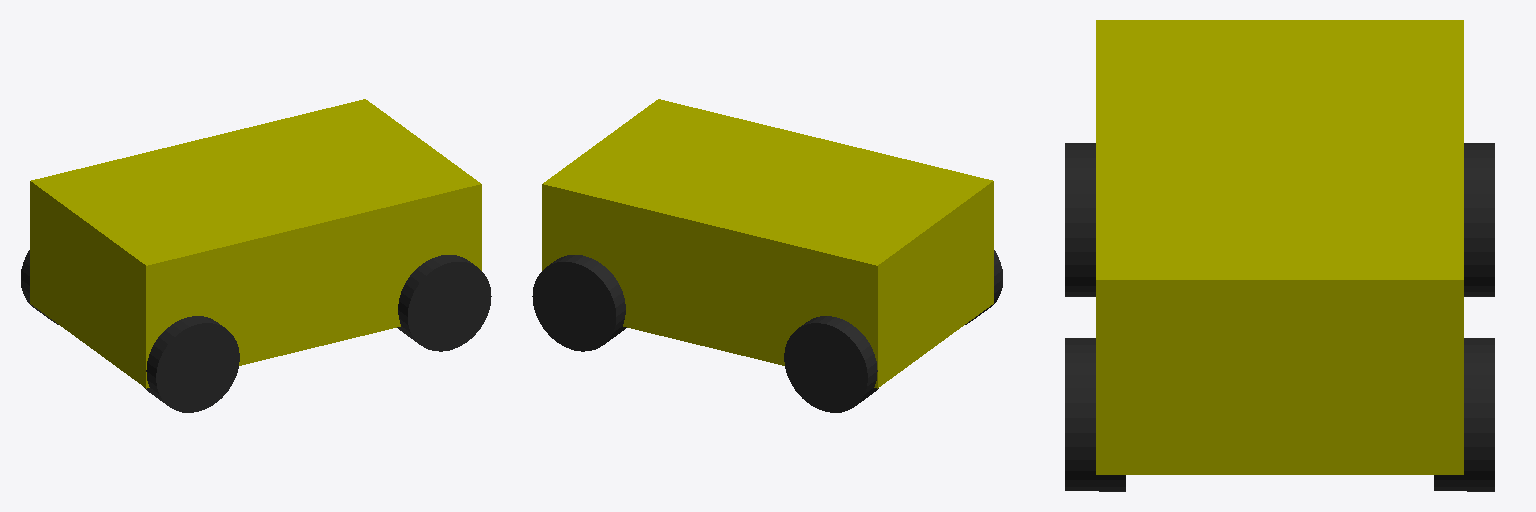
URDF robot description (exercise_demo):
<!-- 
    练习：编写四轮差速机器人的底盘模型

    参数：
        长 0.2m
        宽 0.12m
        高 0.07m
        离地 0.015m
        车轮半径：0.025m
        车轮厚度：0.02m

 -->
 <robot name="exercise_demo">
    <!-- 定义颜色 -->
    <material name="yellow">
      <color rgba="0.7 0.7 0 0.8" />
    </material>
    <material name="red">
      <color rgba="0.8 0.1 0.1 0.8" />
    </material>
    <material name="gray">
      <color rgba="0.2 0.2 0.2 0.8" />
    </material>
  
    <link name="base_footprint">
      <visual>
        <geometry>
            <sphere radius="0.001"/>
        </geometry>
      </visual>
    </link>
    <!-- 车体 -->
    <link name="base_link">
      <visual>
          <!-- 形状 -->
          <geometry>
              <box size="0.2 0.12 0.07" />
          </geometry>
          <origin xyz="0 0 0" rpy="0 0 0" />
          <material name="yellow"/>
      </visual>
    </link>
  
    <joint name="baselink2basefootprint" type="fixed">
      <parent link="base_footprint"/>
      <child link="base_link"/>
      <origin xyz="0.0 0.0 0.05"/>
    </joint>
  
    <!-- ==============车轮================= -->
    <!-- 左前轮 -->
    <link name="front_left_wheel">
        <visual>
            <geometry>
                <cylinder radius="0.025" length="0.02"/>
            </geometry>
            <origin xyz="0 0 0" rpy="1.57 0 0" />
            <material name="gray" />
        </visual>
    </link>
  
    <!-- 左前轮关节 -->
    <joint name="frontleftwheel2baselink" type="continuous">
        <parent link="base_link"/>
        <child link="front_left_wheel" />
        <!-- 需要计算两个 link 的物理中心之间的偏移量 -->
        <origin xyz="0.075 0.06 -0.025" rpy="0 0 0" />
        <axis xyz="0 1 0" />
    </joint>
  
    <!-- 右前轮 -->
    <link name="front_right_wheel">
      <visual>
          <geometry>
              <cylinder radius="0.025" length="0.02"/>
          </geometry>
          <origin xyz="0 0 0" rpy="1.57 0 0" />
          <material name="gray" />
      </visual>
    </link>
  
    <!-- 右前轮关节 -->
    <joint name="frontrightwheel2baselink" type="continuous">
        <parent link="base_link"/>
        <child link="front_right_wheel" />
        <!-- 需要计算两个 link 的物理中心之间的偏移量 -->
        <origin xyz="0.075 -0.06 -0.025" rpy="0 0 0" />
        <axis xyz="0 1 0" />
    </joint>
  
    <!-- 左后轮 -->
    <link name="back_left_wheel">
      <visual>
          <geometry>
              <cylinder radius="0.025" length="0.02"/>
          </geometry>
          <origin xyz="0 0 0" rpy="1.57 0 0" />
          <material name="gray" />
      </visual>
    </link>
  
    <!-- 左后轮关节 -->
    <joint name="backleftwheel2baselink" type="continuous">
      <parent link="base_link"/>
      <child link="back_left_wheel" />
      <!-- 需要计算两个 link 的物理中心之间的偏移量 -->
      <origin xyz="-0.075 0.06 -0.025" rpy="0 0 0" />
      <axis xyz="0 1 0" />
    </joint>
  
    <!-- 右后轮 -->
    <link name="back_right_wheel">
      <visual>
          <geometry>
              <cylinder radius="0.025" length="0.02"/>
          </geometry>
          <origin xyz="0 0 0" rpy="1.57 0 0" />
          <material name="gray" />
      </visual>
    </link>
  
    <!-- 右后轮关节 -->
    <joint name="backrightwheel2baselink" type="continuous">
      <parent link="base_link"/>
      <child link="back_right_wheel" />
      <!-- 需要计算两个 link 的物理中心之间的偏移量 -->
      <origin xyz="-0.075 -0.06 -0.025" rpy="0 0 0" />
      <axis xyz="0 1 0" />
    </joint>
  
  
  </robot>

--- Facts derived from the render (not from the file) ---
3 views of the same robot in one strip: view 1: azimuth 30°, elevation 25°; view 2: azimuth 150°, elevation 25°; view 3: azimuth 270°, elevation 25° (orthographic).
Robot: exercise_demo — 6 links, 5 joints (4 continuous, 1 fixed); root link base_footprint; default pose: all joints at 0.
Visible links, largest first — view 1: base_link, back_right_wheel, front_right_wheel; view 2: base_link, back_left_wheel, front_left_wheel; view 3: base_link, front_left_wheel, front_right_wheel, back_left_wheel, back_right_wheel.
Boxes of the visible links, bbox=[...] form: base_link: bbox=[30, 99, 481, 388]; back_right_wheel: bbox=[144, 316, 239, 412]; front_right_wheel: bbox=[397, 255, 491, 351]; base_link: bbox=[542, 99, 993, 388]; back_left_wheel: bbox=[784, 316, 878, 412]; front_left_wheel: bbox=[532, 255, 626, 351]; base_link: bbox=[1096, 20, 1463, 474]; front_left_wheel: bbox=[1434, 338, 1494, 491]; front_right_wheel: bbox=[1065, 338, 1125, 491]; back_left_wheel: bbox=[1464, 143, 1494, 296]; back_right_wheel: bbox=[1065, 143, 1095, 296].
Bounding box of the posed robot: 0.2 × 0.14 × 0.086 m (x, y, z).
Geometry: primitives only (box / cylinder / sphere), no mesh files.
